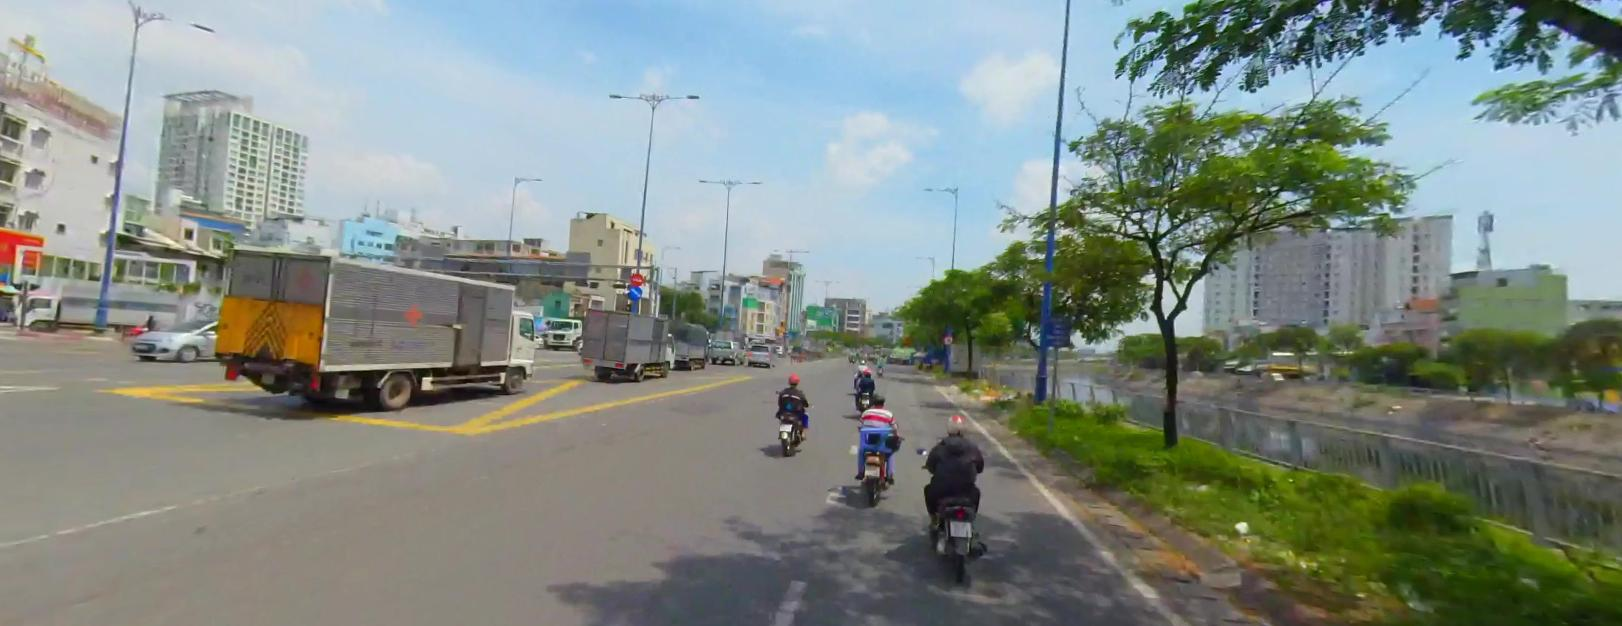Cam con lai: (942, 333, 951, 342)
Cam nguoc chieu: (630, 271, 642, 284)
Hieu lenh: (628, 285, 641, 298)
